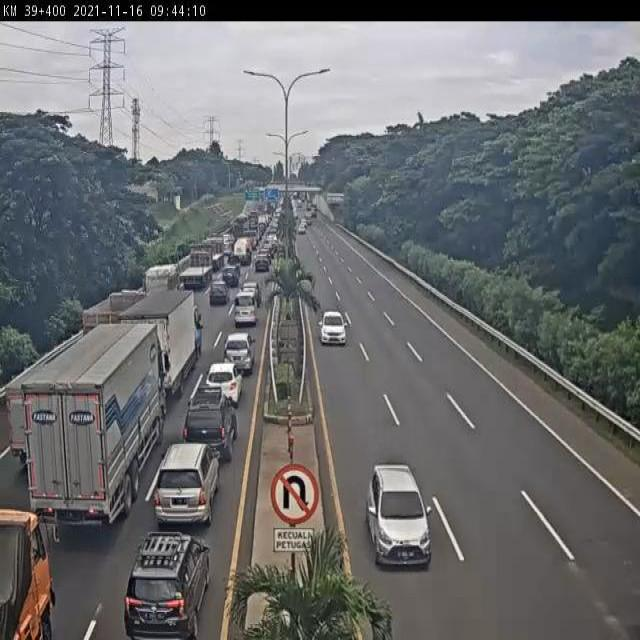car: (120, 526, 229, 640), (358, 452, 453, 580), (150, 433, 223, 538), (180, 385, 239, 472), (219, 324, 271, 379), (203, 352, 249, 412), (314, 297, 358, 351), (228, 288, 270, 329), (208, 276, 226, 315), (222, 264, 247, 291)
small truck: (8, 362, 93, 469)
truck-l-: (22, 324, 172, 529), (182, 248, 214, 288), (202, 235, 227, 273)
truck-m-: (115, 289, 211, 396), (84, 286, 158, 371)
